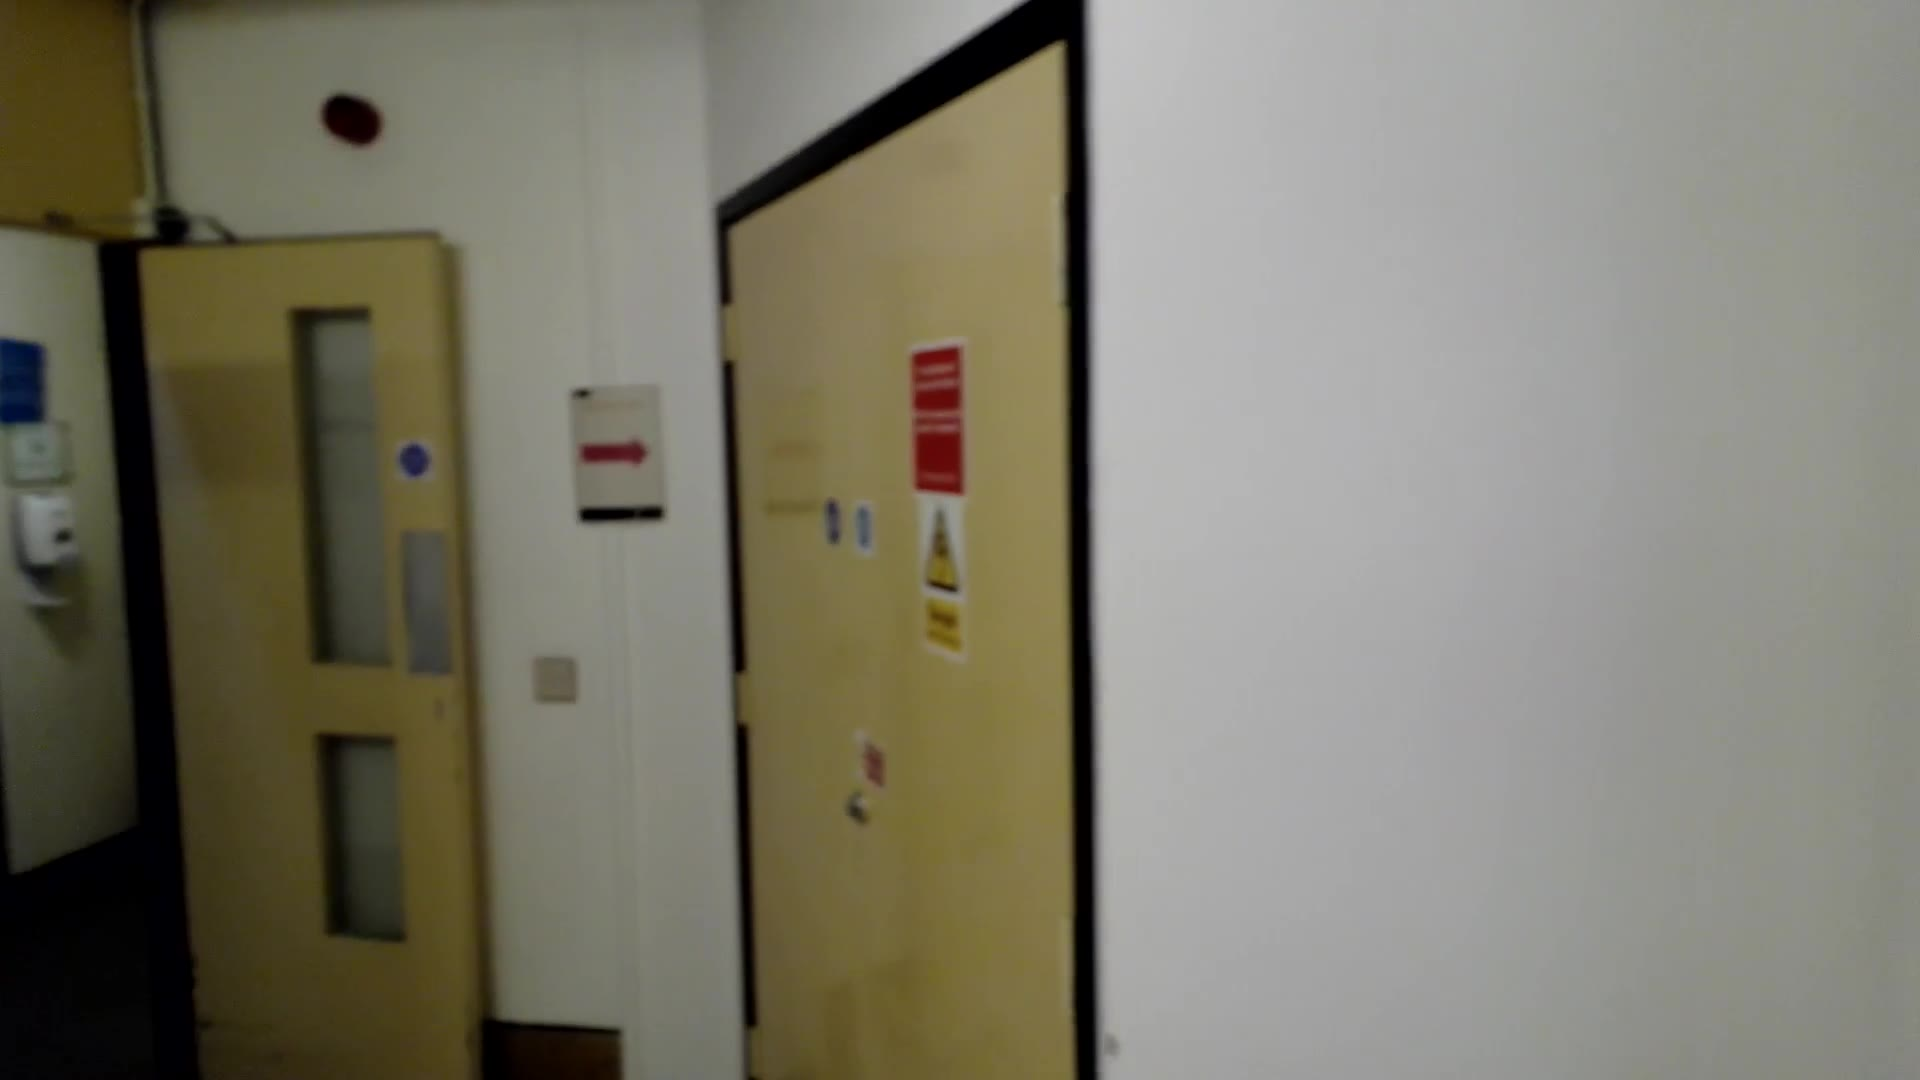Door: (100, 227, 509, 1080)
